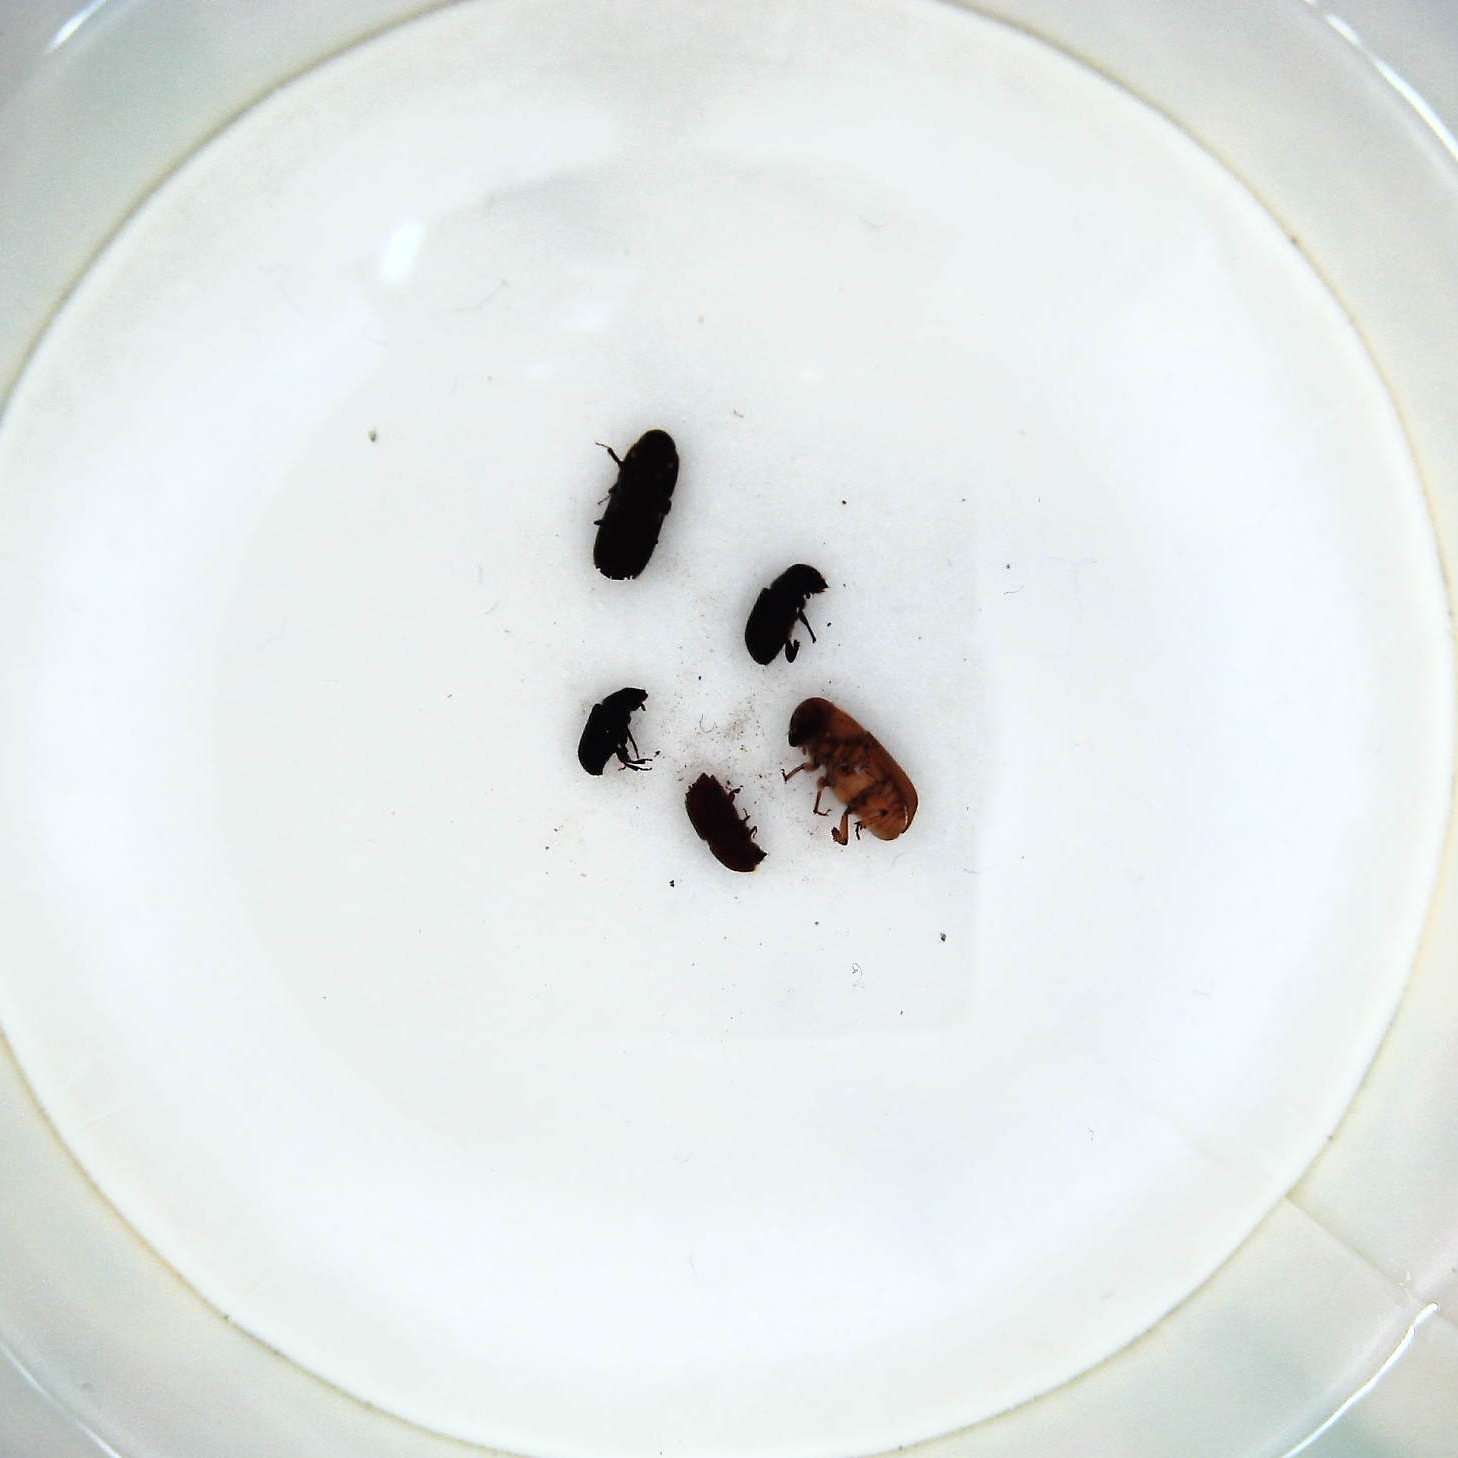Boerner: (579, 422, 688, 587)
Leconte: (782, 696, 923, 848)
armandi: (745, 561, 833, 668)
coleoptera: (574, 684, 662, 782)
linnaeus: (682, 773, 769, 880)
